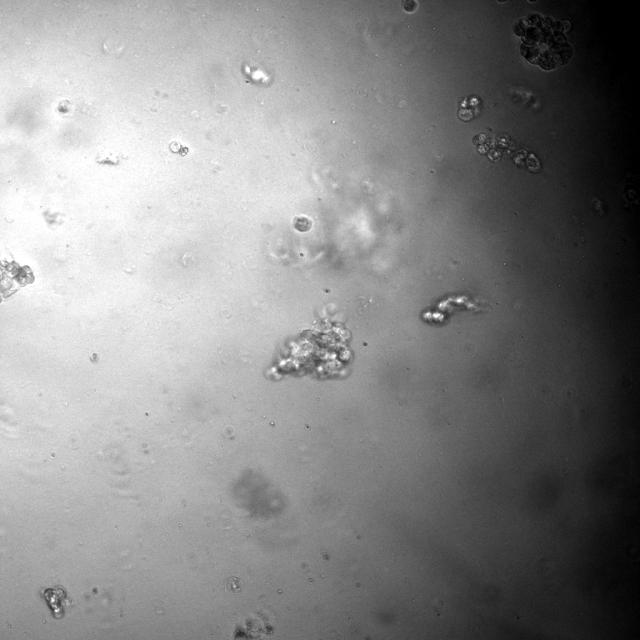organoid: (269, 304, 354, 379), (513, 13, 572, 70), (472, 133, 541, 172), (421, 294, 479, 324), (0, 259, 34, 303), (457, 94, 482, 121), (293, 214, 312, 232), (168, 141, 189, 157), (402, 0, 418, 13)
